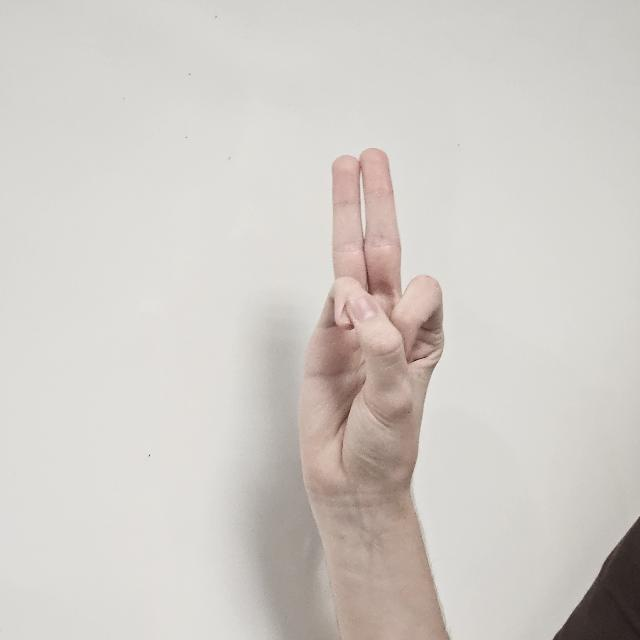R: (286, 145, 446, 537)
